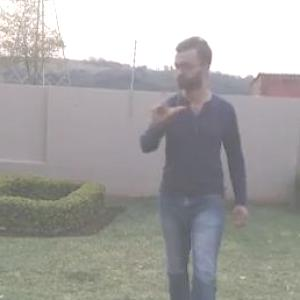land_hand: (151, 72, 191, 125)
